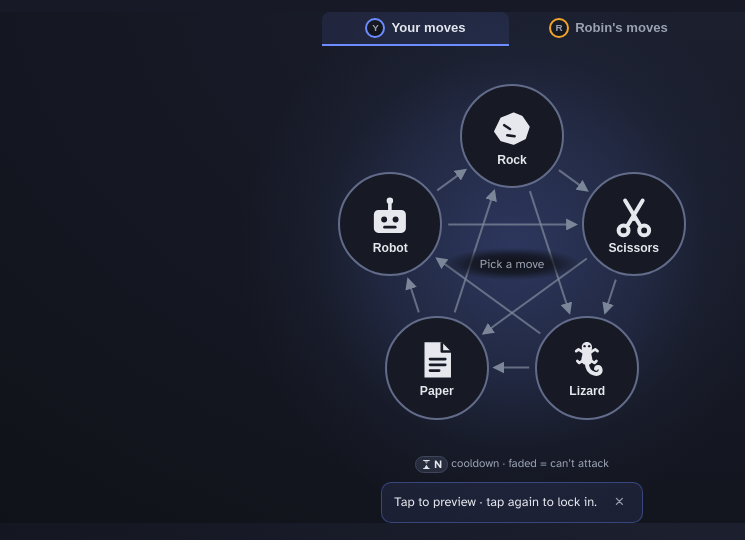
<MovePicker> one-time notes (JQ 2.4/2.6) › shows the tap hint in the first two rounds and remembers dismissal
Check: the text "Tap to preview · tap again to lock in." is shown, box 394,494 -> 597,510
Click the button named "Dismiss" at {"x": 619, "y": 502}, box 607,491 -> 632,514
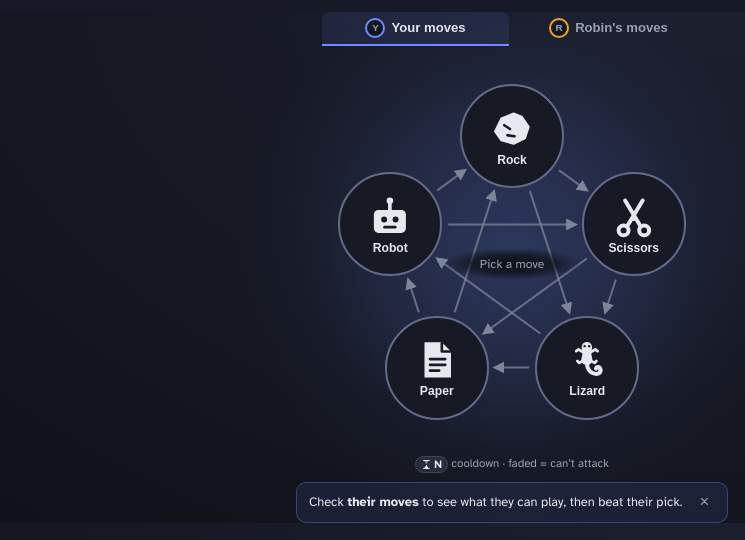
Check: the text "Tap to preview" is gone
